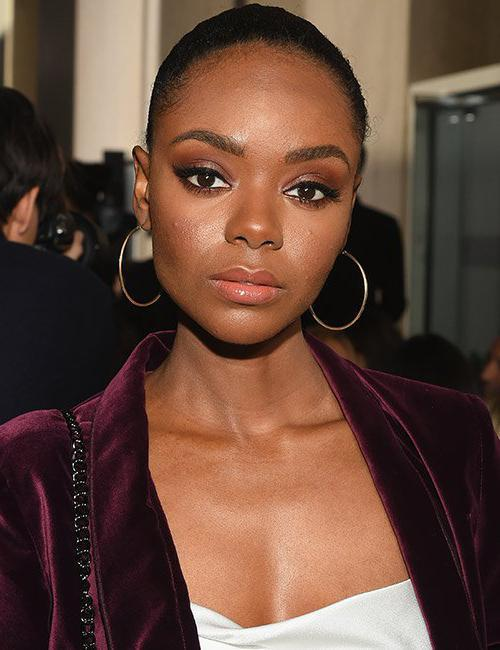Sober: (173, 56, 341, 334)
